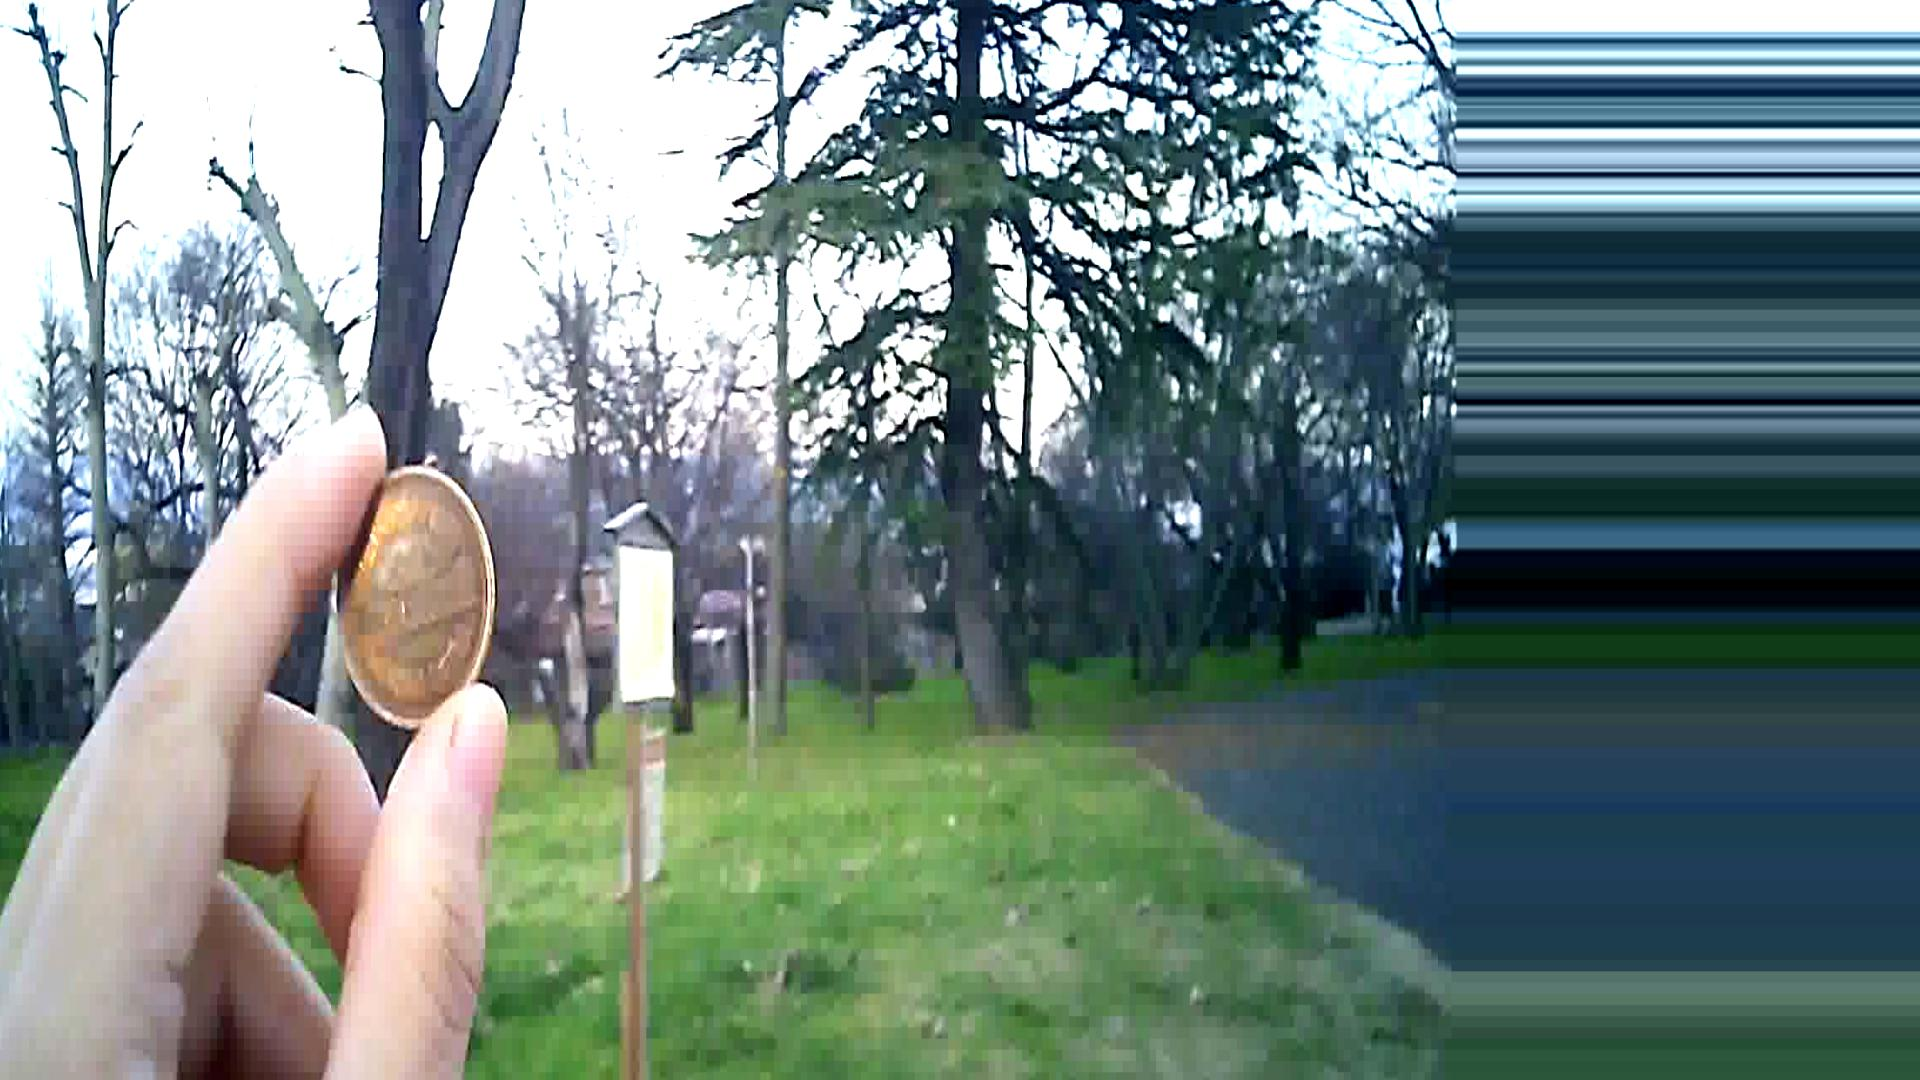10 Yen: (324, 458, 485, 721)
